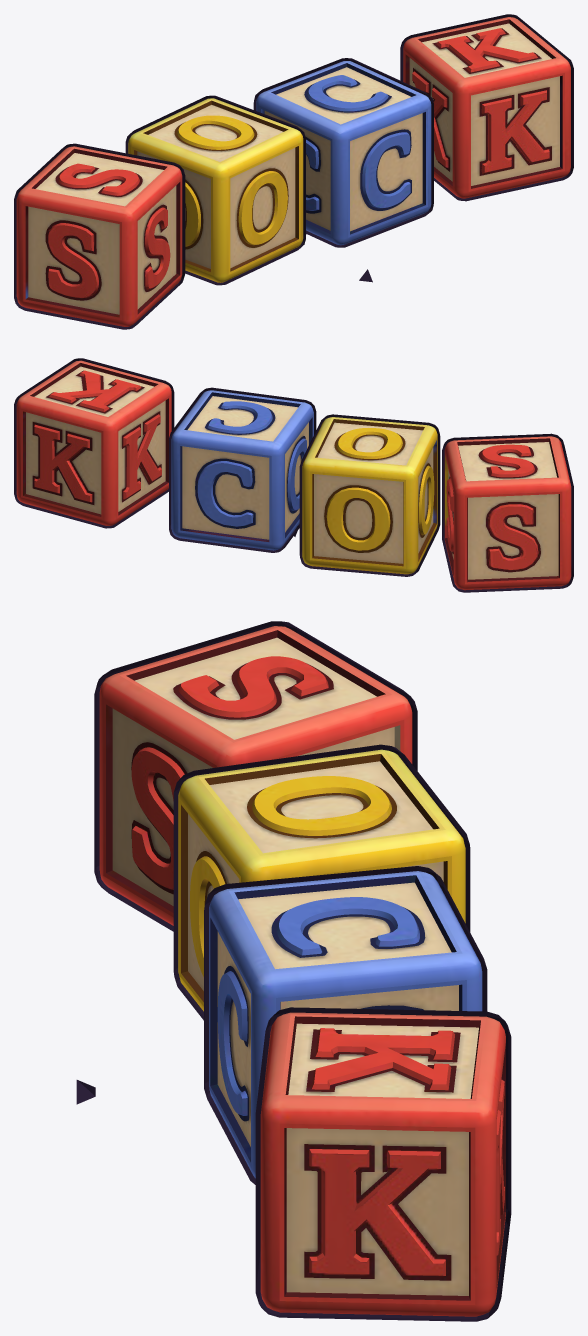
File: Blocks.glb
3 renders of one model, top to bottom at view 1: azimuth 30°, elevation 25°; view 2: azimuth 150°, elevation 25°; view 3: azimuth 270°, elevation 25°, orthographic. The views are drawn at different scales.
Parts seen in each view (by area): view 1: Blocks, Blocks_Outline; view 2: Blocks, Blocks_Outline; view 3: Blocks, Blocks_Outline.
Boxes of the visible parts, box(x1,y1,x2,y2) form: Blocks: box(16, 17, 570, 326); Blocks_Outline: box(14, 14, 573, 329); Blocks: box(16, 360, 571, 590); Blocks_Outline: box(14, 358, 573, 592); Blocks: box(99, 626, 505, 1316); Blocks_Outline: box(94, 621, 511, 1321).
Bounding box in the file's own units: 4.97 × 1.06 × 1.84.
2 materials, 2 textured.
